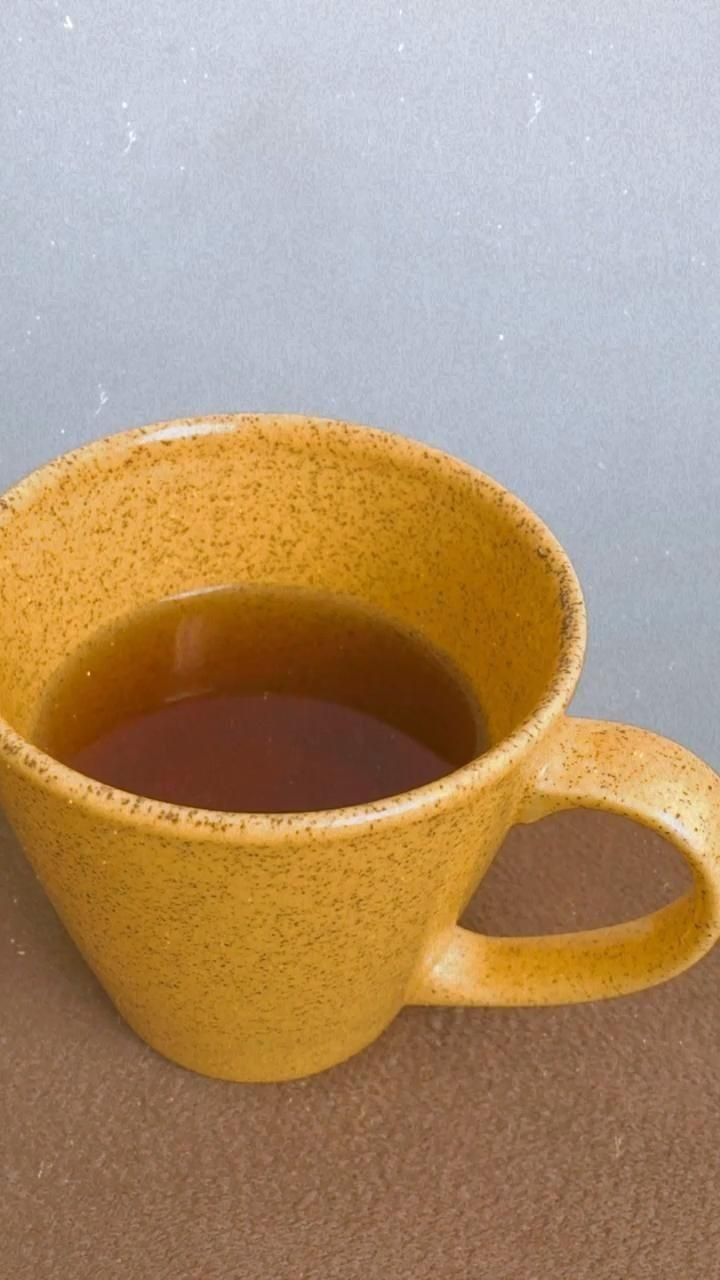cup-handle: (1, 402, 719, 1087)
